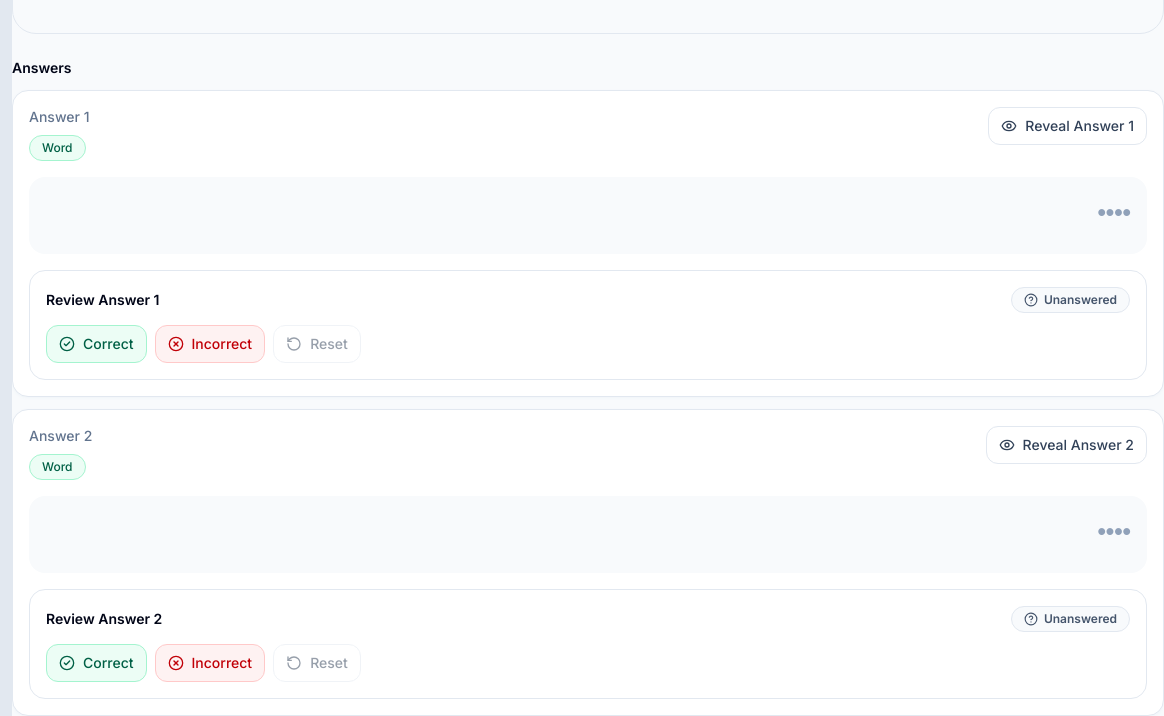
Scenario: GeneratedQuizPreview review mode › marks one answer incorrect
This screenshot has width=1164, height=716.
(page scrolled)
Click the button with aria-label "mark answer 2 incorrect": (210, 663) [154,644,265,682]
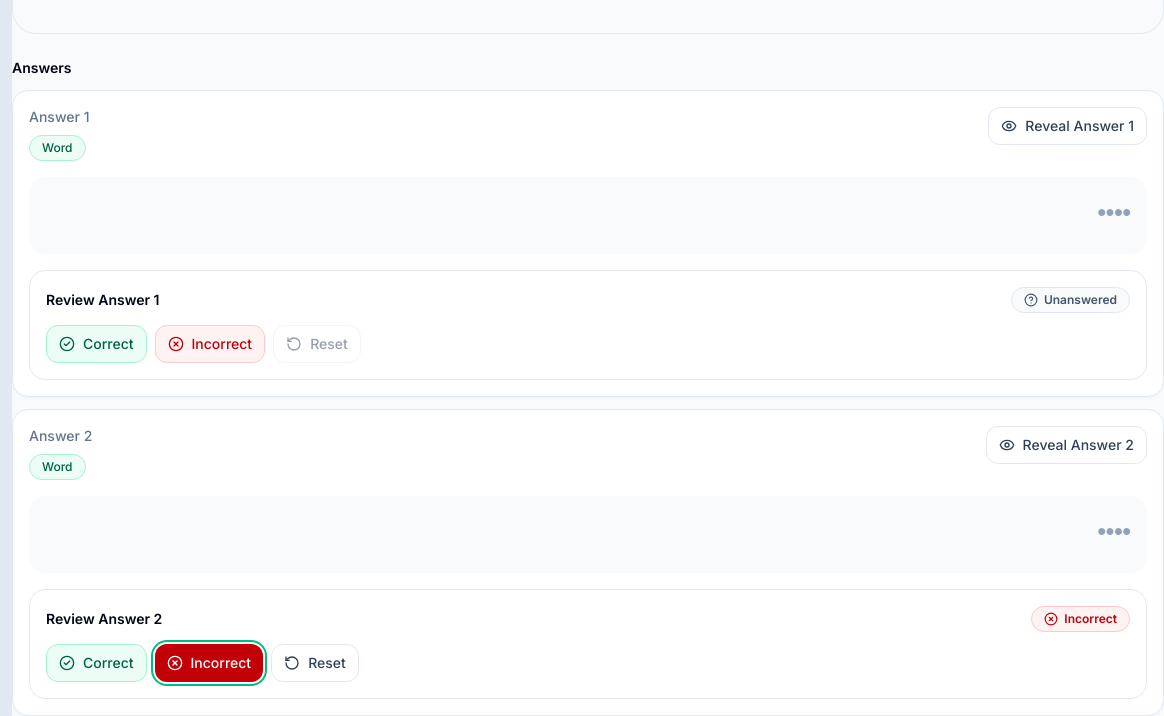
Check: the element with test id "review-answer-status-badge" reads "Incorrect", box [1064,611,1117,626]
